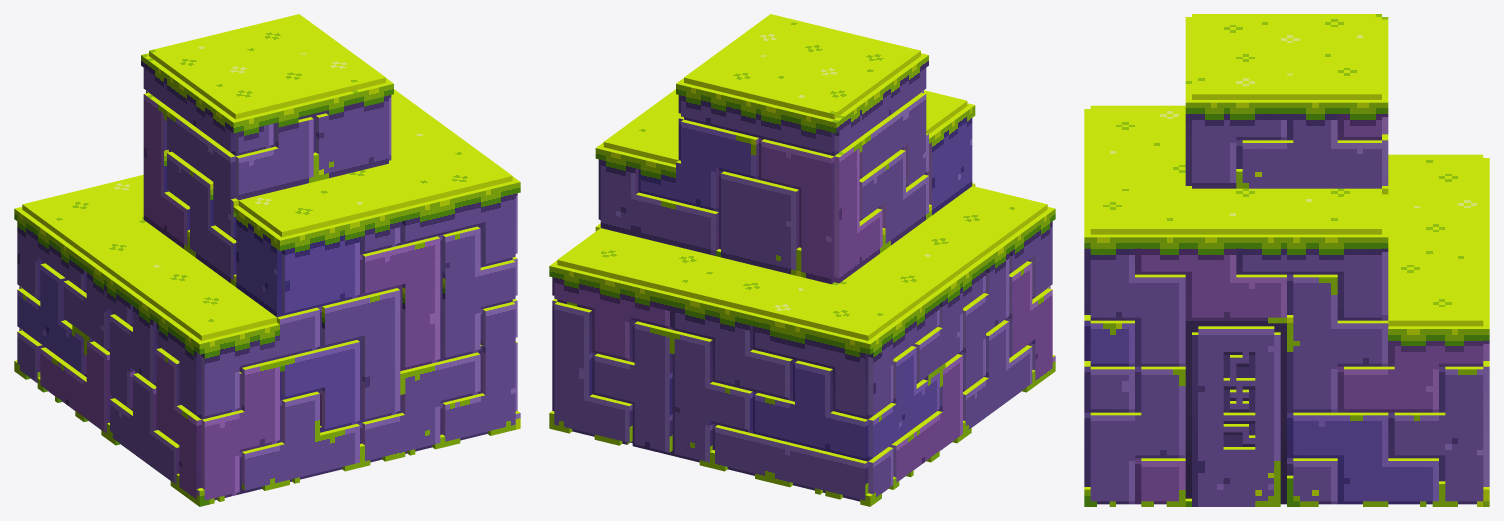
Rendered from zu_doorao.fezao.glb.
3 renders of one model, left to right at view 1: azimuth 30°, elevation 25°; view 2: azimuth 150°, elevation 25°; view 3: azimuth 270°, elevation 25°, orthographic. The views are drawn at different scales.
Visible parts, largest first — view 1: ZU_doorAO; view 2: ZU_doorAO; view 3: ZU_doorAO.
Part boxes in pixels (x1,y1,x2,y2): ZU_doorAO: [14, 14, 520, 506]; ZU_doorAO: [549, 14, 1055, 506]; ZU_doorAO: [1084, 14, 1489, 506].
Bounding box in the file's own units: 4 × 4 × 4.
1 material, 1 textured.
